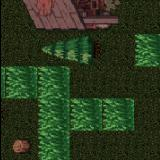Obstacle: (0, 0, 160, 33), (68, 34, 102, 66), (4, 131, 36, 160)
Slow: (36, 99, 134, 131), (5, 65, 69, 98), (36, 131, 68, 160), (134, 33, 160, 66)
